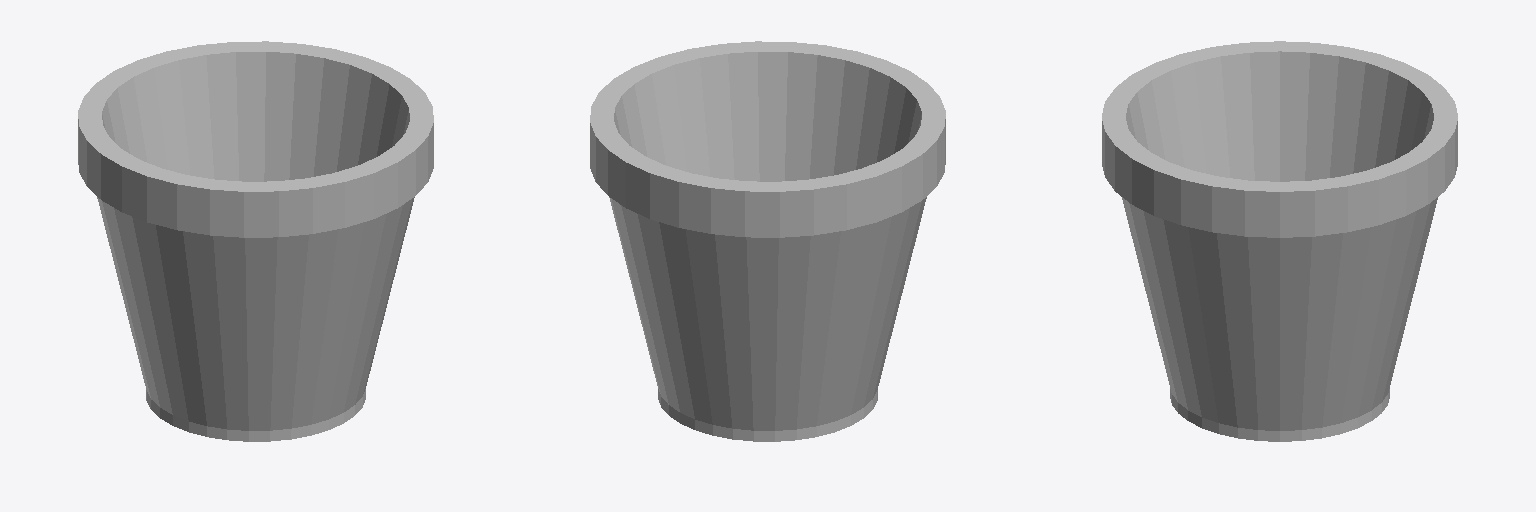
File: pusta.obj
The picture shows the model from 3 angles: view 1: azimuth 30°, elevation 25°; view 2: azimuth 150°, elevation 25°; view 3: azimuth 270°, elevation 25°; orthographic projection.
Parts seen in each view (by area): view 1: Cylinder; view 2: Cylinder; view 3: Cylinder.
Boxes of the visible parts, box(x1,y1,x2,y2) form: Cylinder: box(78, 41, 433, 441); Cylinder: box(590, 41, 945, 441); Cylinder: box(1102, 41, 1457, 441).
Bounding box in the file's own units: 3.23 × 2.79 × 3.23.